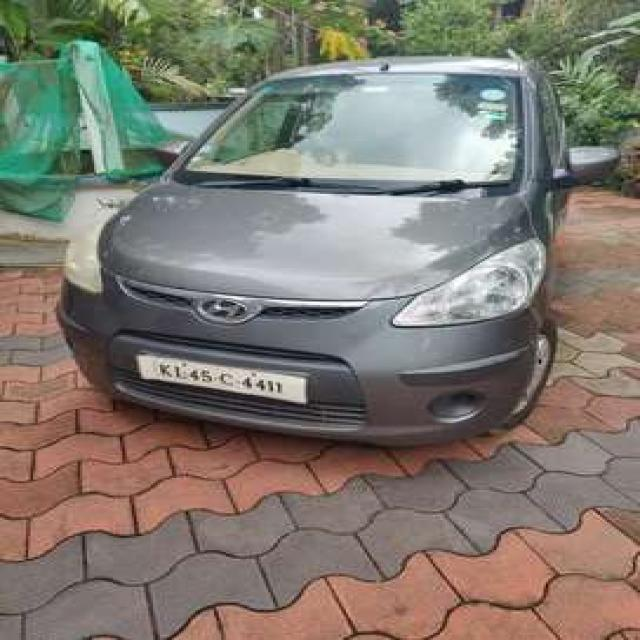Plate: (135, 354, 305, 405)
